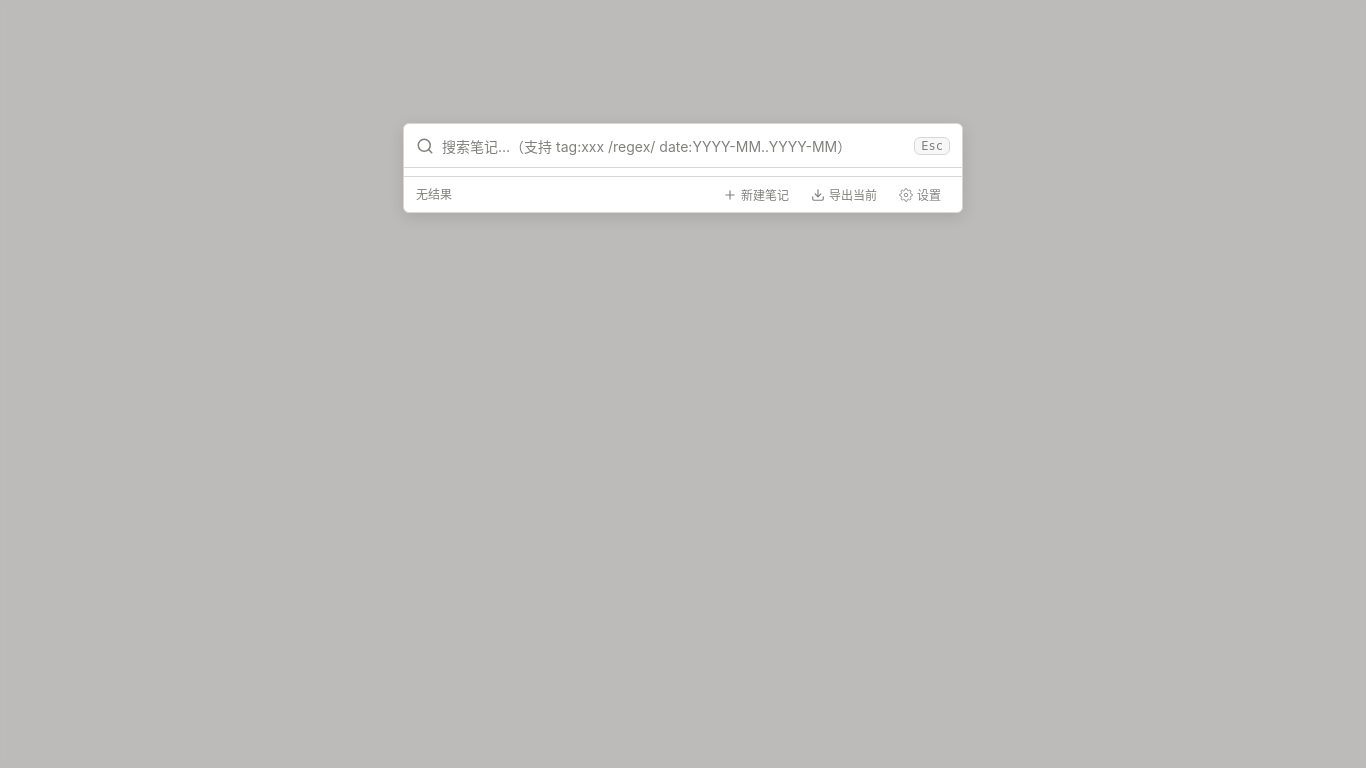
Test: CommandPalette 搜索状态接线 › IX：索引通用失败态——空态透出 errors.indexUnavailable 兜底文案
Type "甲" into the field with class "search-input".
click(674, 145); type("甲")  # box [442,124,906,167]
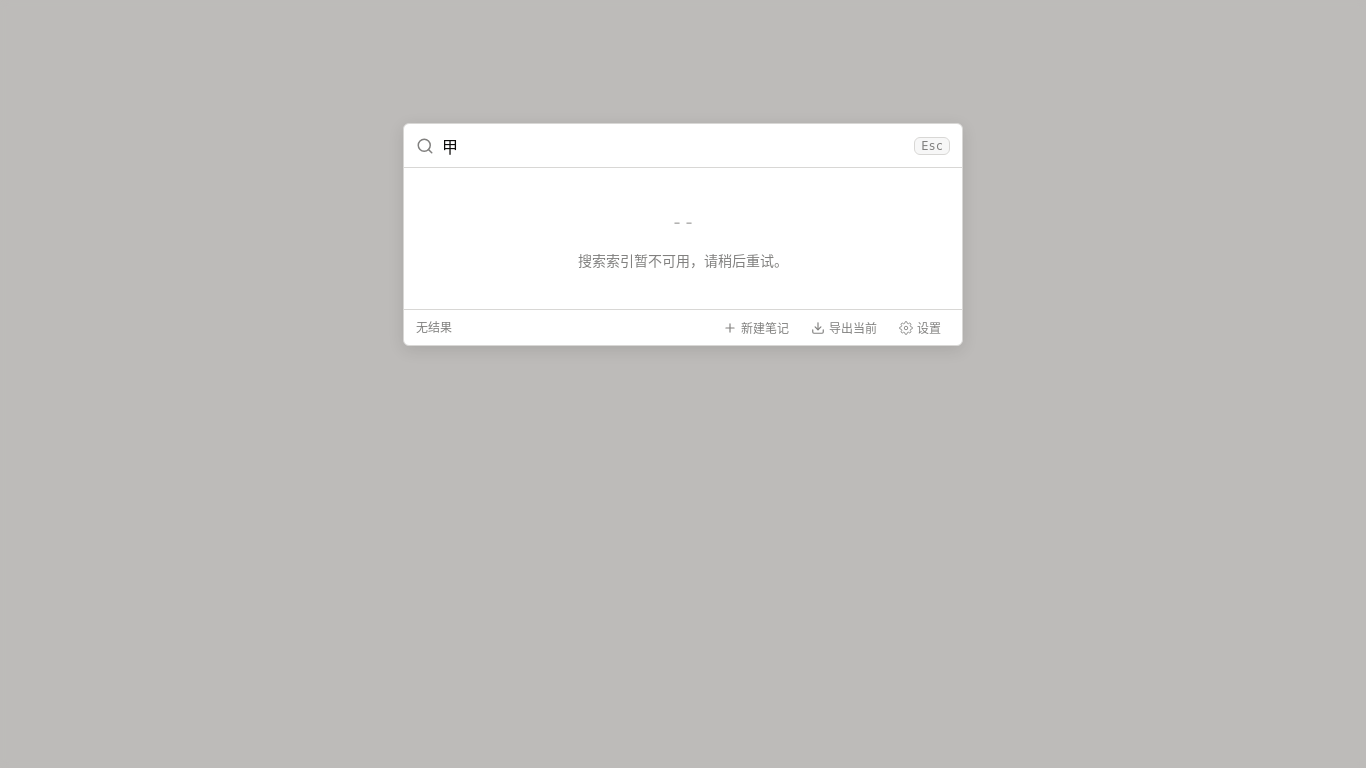
expect the element with class "no-results" shows "搜索索引暂不可用，请稍后重试。": met, box [578,252,788,269]
